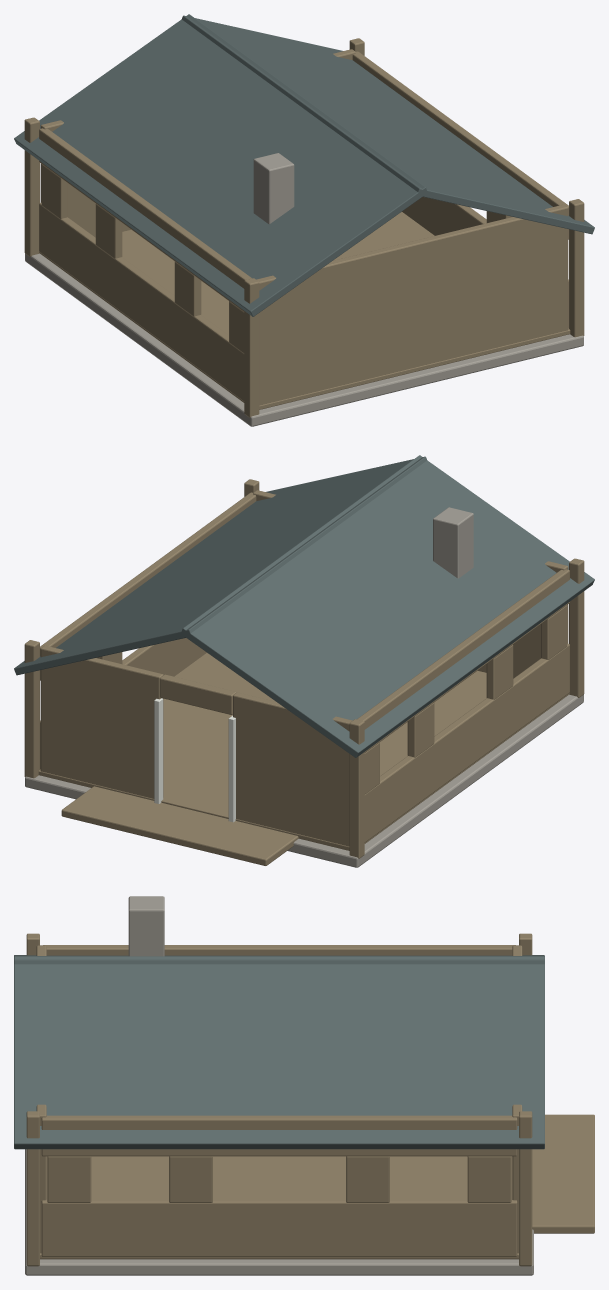
Rendered from SM_RangerCabin.glb.
3 views of the same model, one above another, from view 1: azimuth 30°, elevation 25°; view 2: azimuth 150°, elevation 25°; view 3: azimuth 270°, elevation 25° (orthographic). The views are drawn at different scales.
Parts seen in each view (by area): view 1: SM_RangerCabin; view 2: SM_RangerCabin; view 3: SM_RangerCabin.
Boxes of the visible parts, bbox=[...] form: SM_RangerCabin: bbox=[14, 14, 594, 426]; SM_RangerCabin: bbox=[14, 455, 594, 867]; SM_RangerCabin: bbox=[14, 896, 594, 1275].
Bounding box in the file's own units: 8.06 × 4.65 × 10.51.
